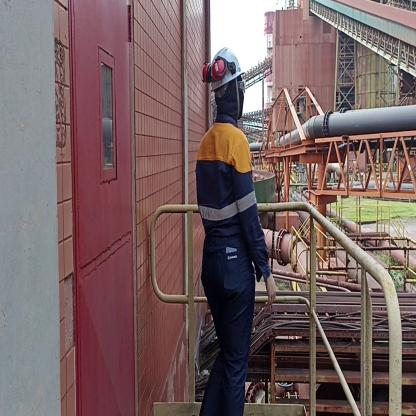Balaclava: (216, 81, 245, 120)
Capacete: (202, 42, 249, 82)
Operacional: (196, 123, 262, 254)
